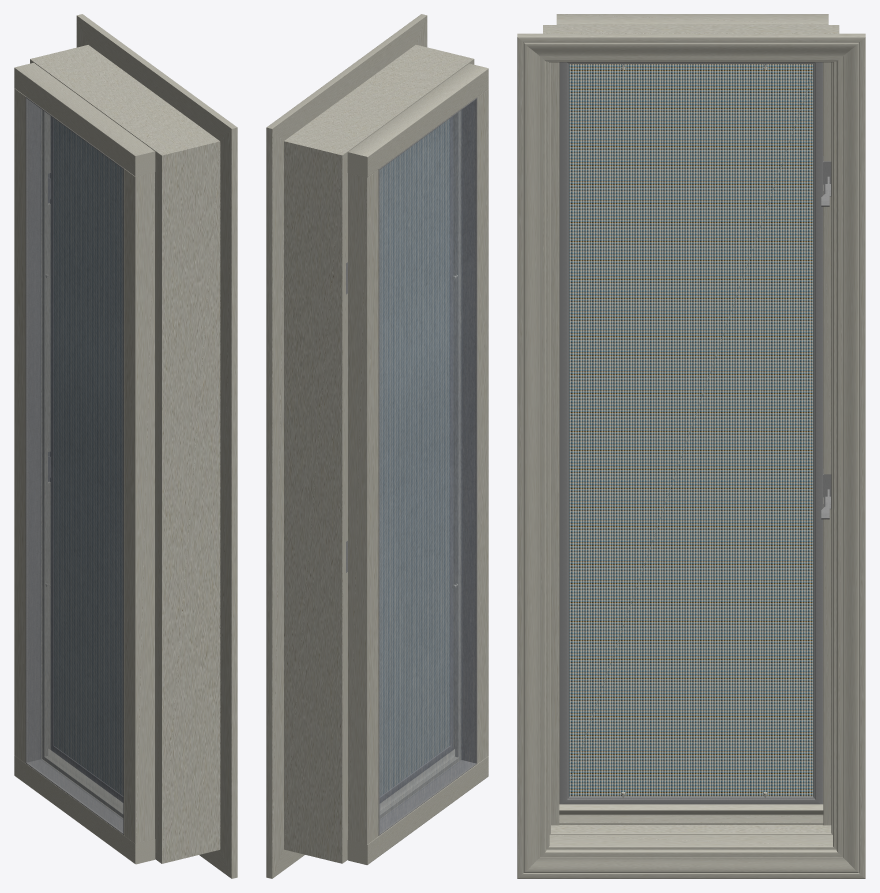
The model's file is window.obj.
3 renders of one model, left to right at view 1: azimuth 30°, elevation 25°; view 2: azimuth 150°, elevation 25°; view 3: azimuth 270°, elevation 25°, orthographic. The views are drawn at different scales.
Visible parts, largest first — view 1: glass005, glass004, window_surround001, screen002, window_frame002, window_trim_interior001, window_metal_frame002, window_mullion004, screen_frame002, window_frame_vertical008, window_frame_vertical010, window_frame_vertical012 (+1 smaller); view 2: glass005, glass004, window_surround001, screen002, window_frame002, window_trim_interior001, window_metal_frame002, window_mullion004, screen_frame002, window_frame_vertical008, window_screen_track002, window_frame_vertical010 (+1 smaller); view 3: screen002, window_trim_interior001, window_surround001, screen_frame002, window_frame_vertical008, window_screen_track002, window_frame002, window_frame_vertical010, window_frame_vertical012, window_frame_vertical015.
Part boxes in pixels (bbox=[...]): glass005: bbox=[27, 99, 122, 831]; glass004: bbox=[41, 110, 122, 818]; window_surround001: bbox=[30, 45, 220, 863]; screen002: bbox=[54, 118, 123, 795]; window_frame002: bbox=[14, 62, 155, 864]; window_trim_interior001: bbox=[76, 14, 237, 878]; window_metal_frame002: bbox=[25, 97, 123, 834]; window_mullion004: bbox=[42, 110, 123, 817]; screen_frame002: bbox=[50, 116, 123, 802]; window_frame_vertical008: bbox=[155, 157, 158, 854]; window_frame_vertical010: bbox=[48, 481, 50, 749]; window_frame_vertical012: bbox=[48, 203, 50, 451]; glass005: bbox=[380, 100, 475, 832]; glass004: bbox=[380, 111, 461, 818]; window_surround001: bbox=[284, 44, 474, 863]; screen002: bbox=[379, 119, 449, 796]; window_frame002: bbox=[347, 63, 488, 864]; window_trim_interior001: bbox=[266, 14, 427, 878]; window_metal_frame002: bbox=[378, 97, 477, 835]; window_mullion004: bbox=[379, 111, 460, 818]; screen_frame002: bbox=[379, 116, 453, 803]; window_frame_vertical008: bbox=[453, 115, 454, 749]; window_screen_track002: bbox=[379, 749, 454, 810]; window_frame_vertical010: bbox=[346, 572, 347, 854]; screen002: bbox=[569, 64, 813, 796]; window_trim_interior001: bbox=[517, 33, 865, 878]; window_surround001: bbox=[543, 25, 839, 849]; screen_frame002: bbox=[559, 62, 822, 804]; window_frame_vertical008: bbox=[551, 62, 559, 825]; window_screen_track002: bbox=[559, 804, 823, 824]; window_frame002: bbox=[556, 14, 828, 24]; window_frame_vertical010: bbox=[823, 497, 831, 825]; window_frame_vertical012: bbox=[823, 185, 831, 474]; window_frame_vertical015: bbox=[823, 62, 831, 161].
Bounding box in the file's own units: 8.55 × 72.03 × 27.01.
